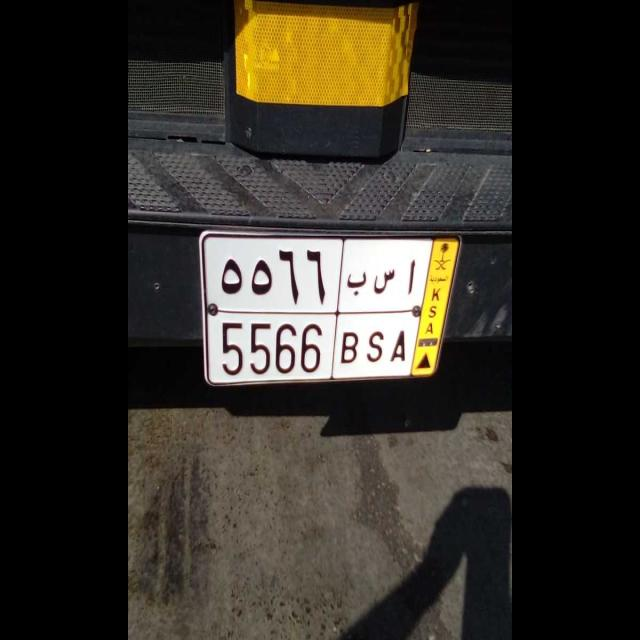license_plate: (212, 314, 415, 387)
